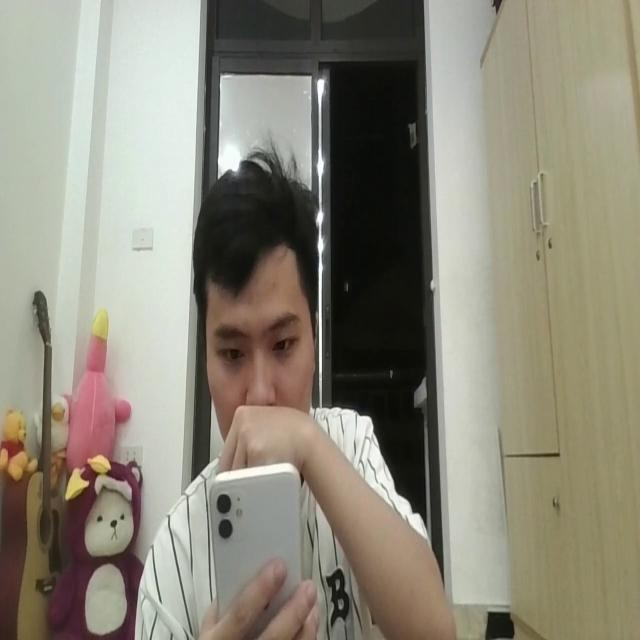phone: (208, 456, 303, 606)
student: (125, 148, 453, 640)
